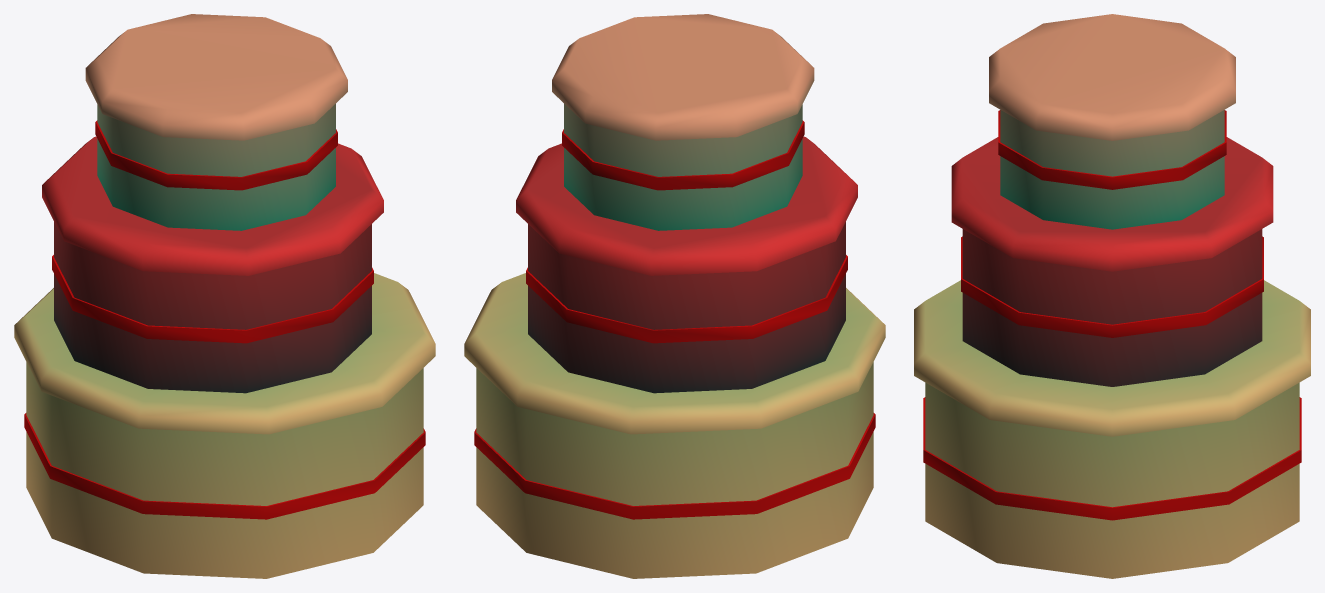
Rendered from CI_Bedroom_Hatbox_Stack.glb.
3 views of the same model, side by side, from view 1: azimuth 30°, elevation 25°; view 2: azimuth 150°, elevation 25°; view 3: azimuth 270°, elevation 25° (orthographic).
Visible parts, largest first — view 1: CI_Bedroom_Hatbox_Stack; view 2: CI_Bedroom_Hatbox_Stack; view 3: CI_Bedroom_Hatbox_Stack.
Part boxes in pixels (x1=…): CI_Bedroom_Hatbox_Stack: x1=14, y1=14, x2=435, y2=578; CI_Bedroom_Hatbox_Stack: x1=464, y1=14, x2=885, y2=578; CI_Bedroom_Hatbox_Stack: x1=914, y1=14, x2=1310, y2=578.
Size of the model in its own units: 0.424 by 0.48 by 0.4032.
